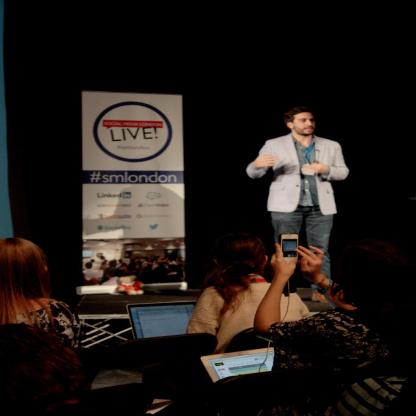board: (211, 348, 276, 393), (126, 300, 198, 340)
